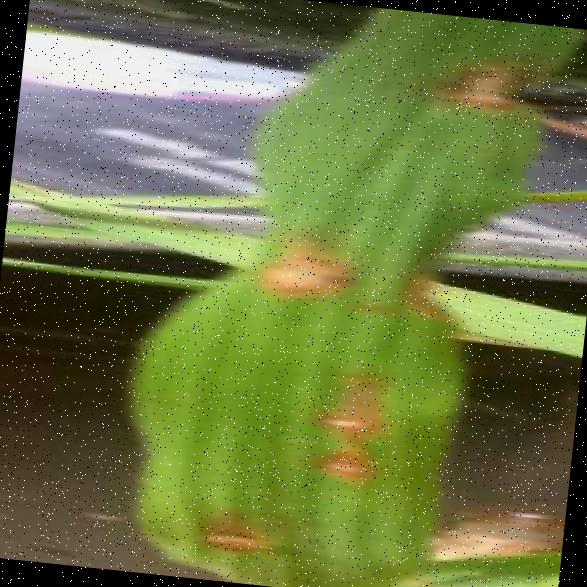Leaf_smut: (142, 450, 308, 577), (231, 207, 372, 322), (282, 351, 412, 450), (431, 44, 542, 140), (292, 434, 386, 499)
